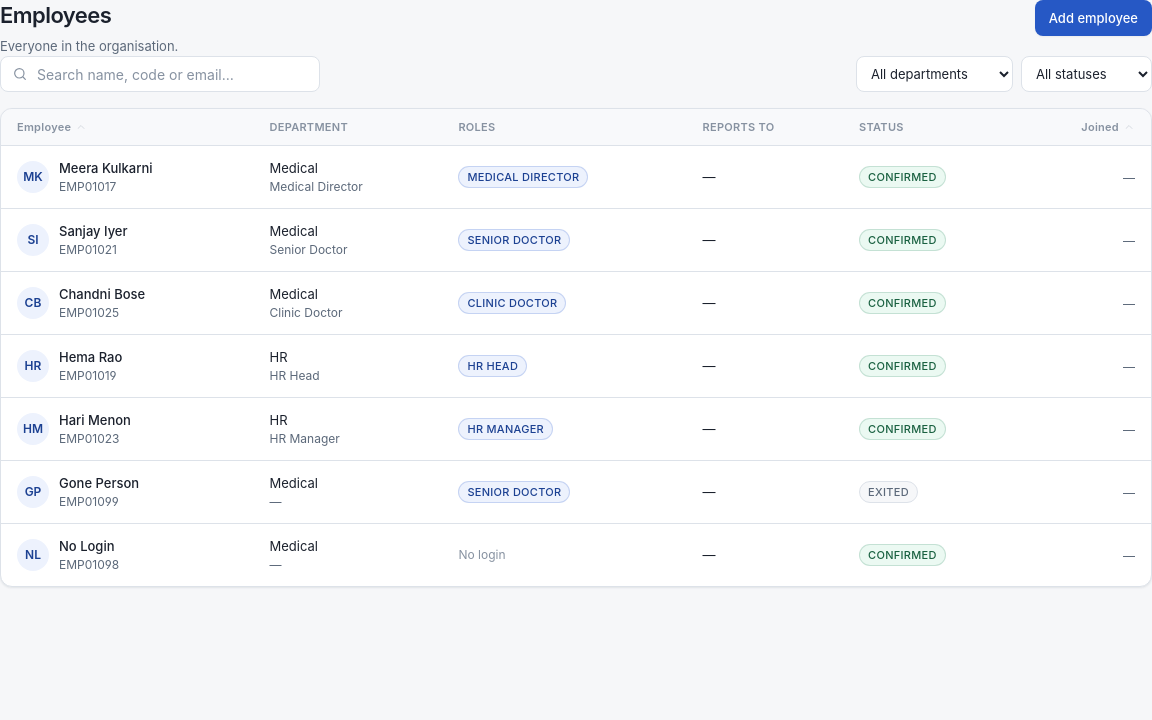
Test: the Role dropdown › offers every assignable role before a department is chosen
Step 1. Click the button "Add employee" → {"x": 1093, "y": 18}, box [1035,0,1151,36]
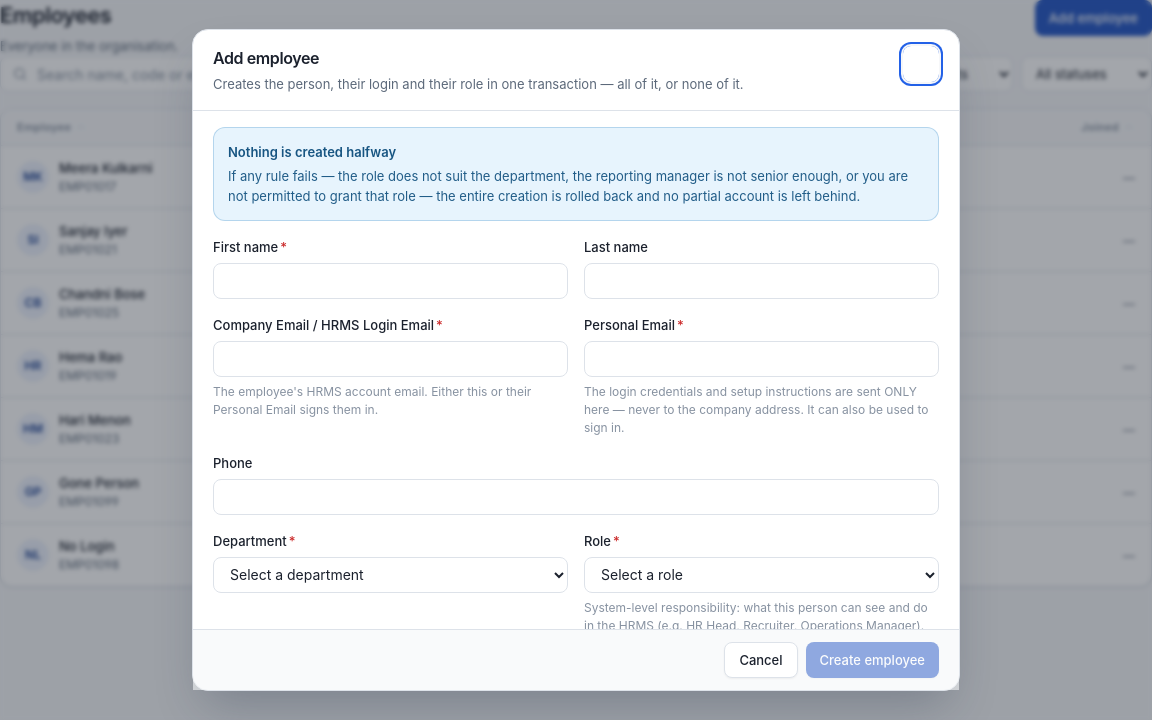
Result: the dropdown labelled "Role*" is shown at [584,557,939,593]
